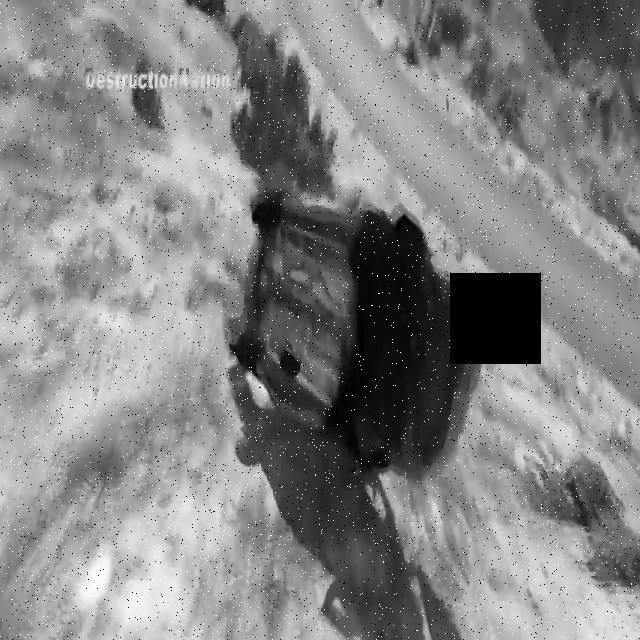severe: (223, 180, 487, 490)
